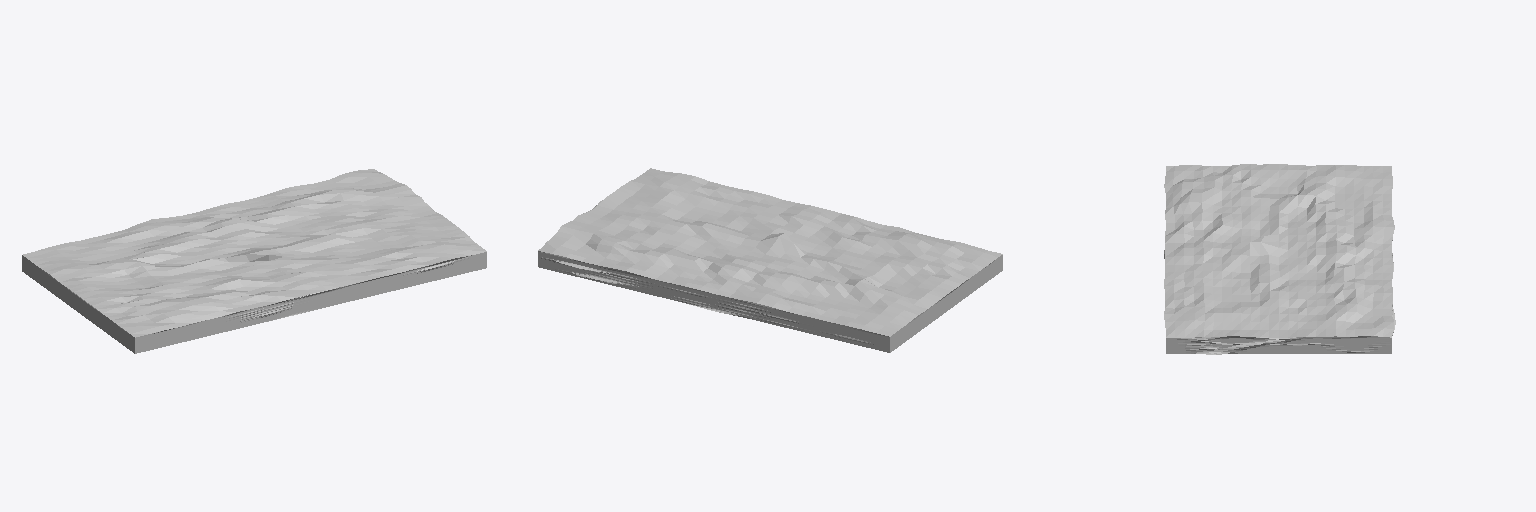
The model's file is sandScenario.obj.
3 views of the same model, side by side, from view 1: azimuth 30°, elevation 25°; view 2: azimuth 150°, elevation 25°; view 3: azimuth 270°, elevation 25° (orthographic).
Visible parts, largest first — view 1: Cube_Cube.001; view 2: Cube_Cube.001; view 3: Cube_Cube.001.
Part boxes in pixels (x1,y1,x2,y2): Cube_Cube.001: (22, 169, 486, 353); Cube_Cube.001: (538, 168, 1002, 352); Cube_Cube.001: (1164, 164, 1395, 354).
Bounding box in the file's own units: 18.26 × 1.29 × 10.26.